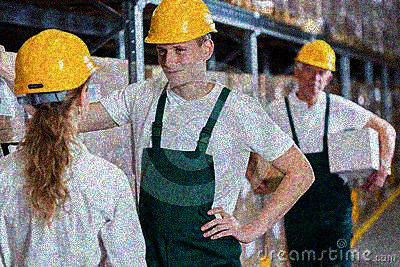helmet: (13, 28, 100, 134), (144, 1, 223, 86), (290, 38, 338, 101)
